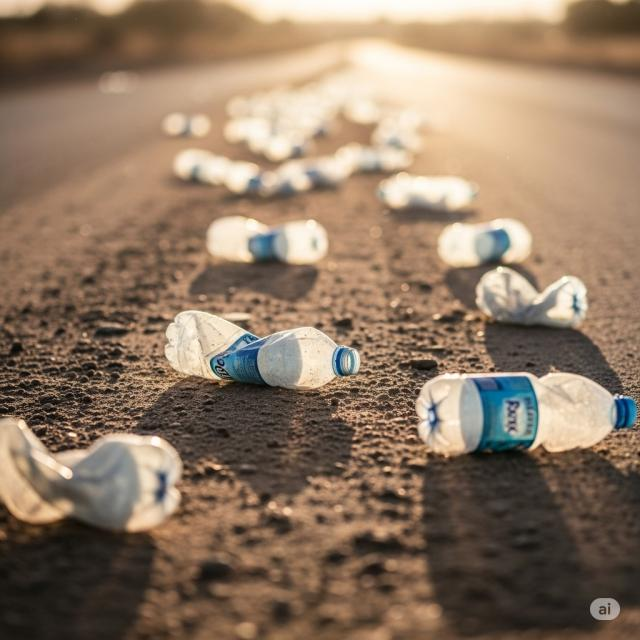plastic: (418, 369, 636, 457), (165, 307, 362, 395)
